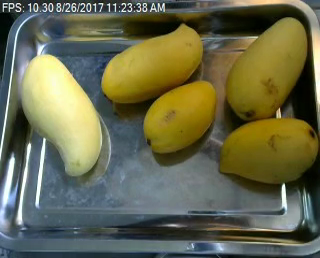Mango: (20, 54, 101, 177), (224, 17, 309, 119), (100, 23, 203, 103), (221, 119, 318, 183), (142, 80, 216, 153)
